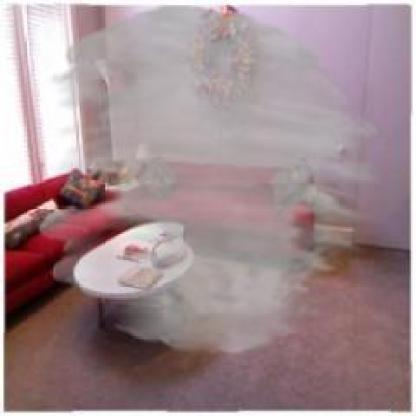Smoke: (39, 6, 382, 356)
